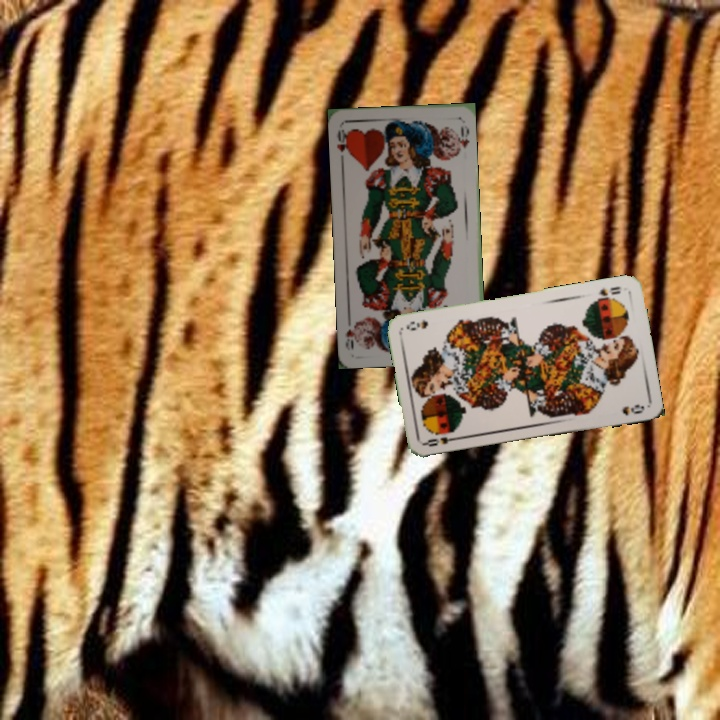HO: (333, 125, 352, 164)
SO: (421, 433, 461, 449), (593, 282, 623, 302)
